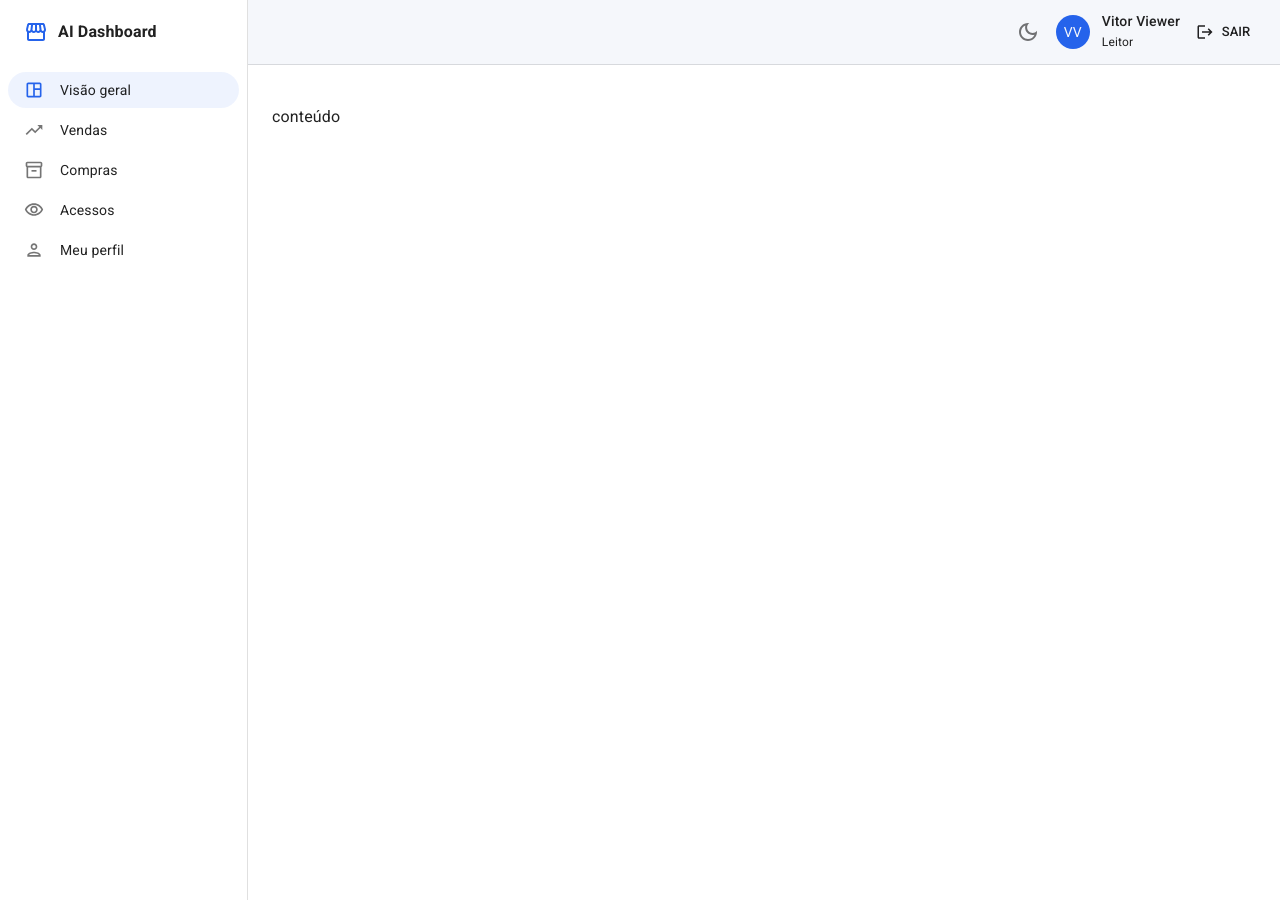
Scenario: AppShell › alterna entre tema claro e escuro
Click the button named "Ativar tema escuro". click: (1028,32)
box: [1008, 12, 1048, 52]
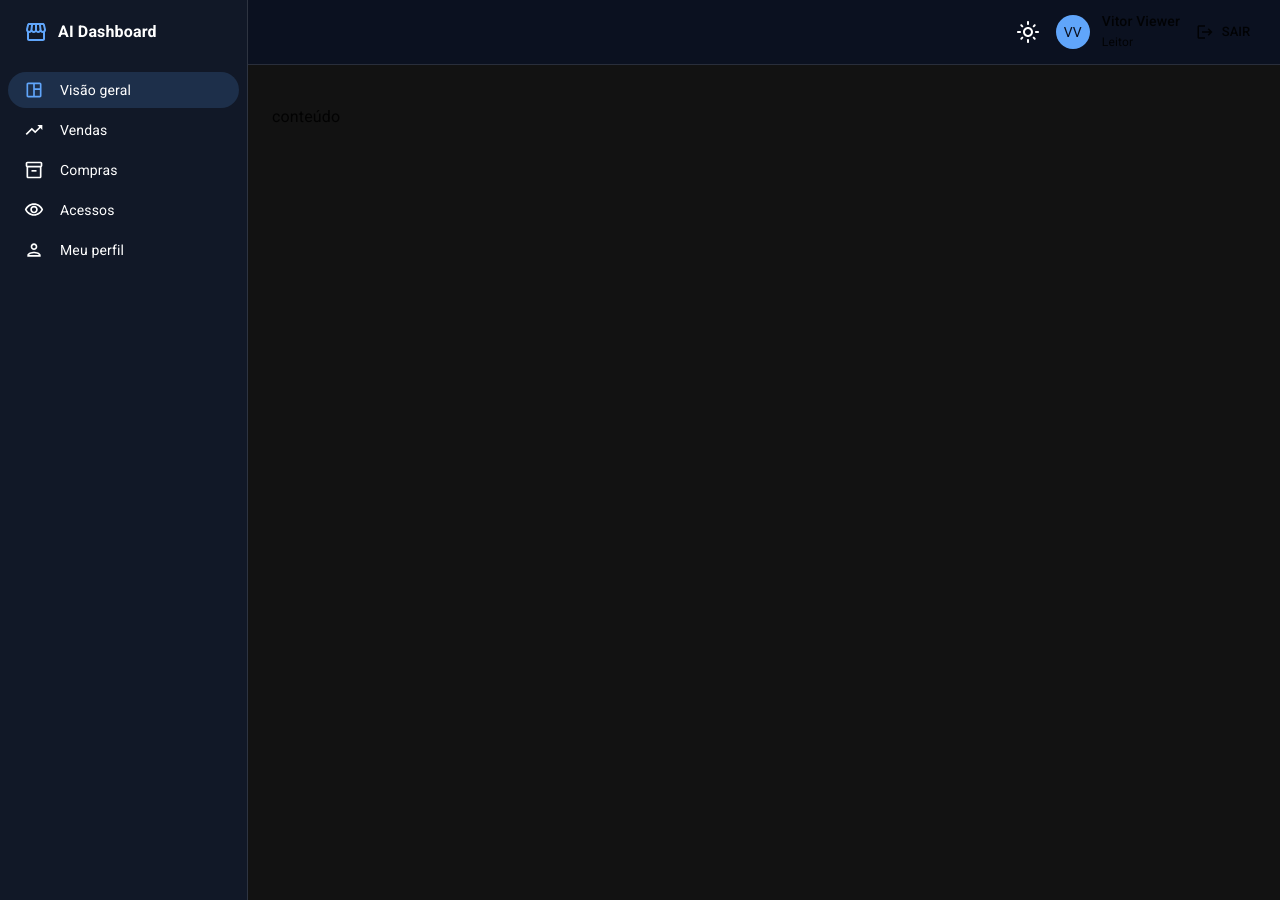
Check: the button named "Ativar tema claro" is shown
Click the button named "Ativar tema claro". click: (1028,32)
box: [1008, 12, 1048, 52]
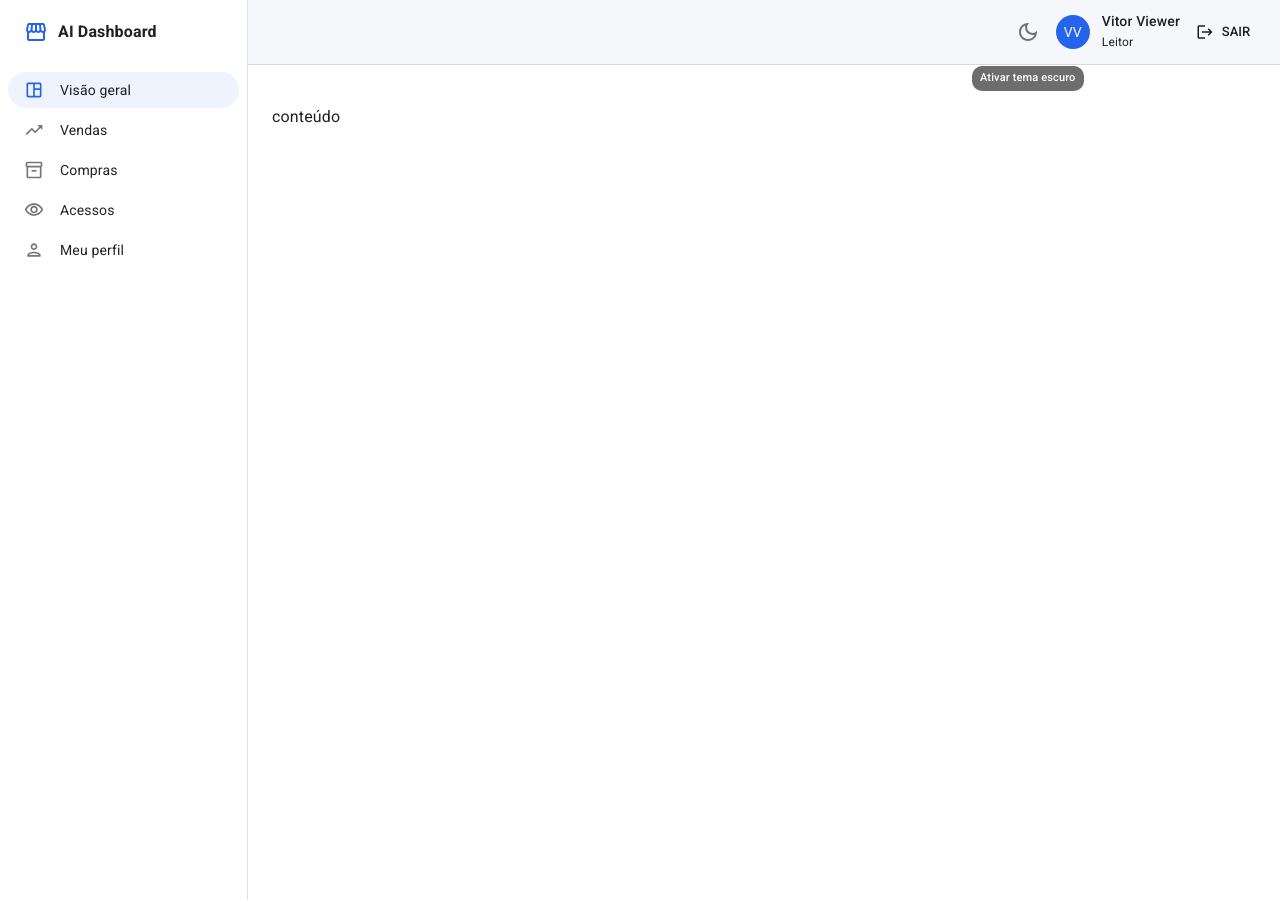
Check: the button named "Ativar tema escuro" is shown, box [1008, 12, 1048, 52]
